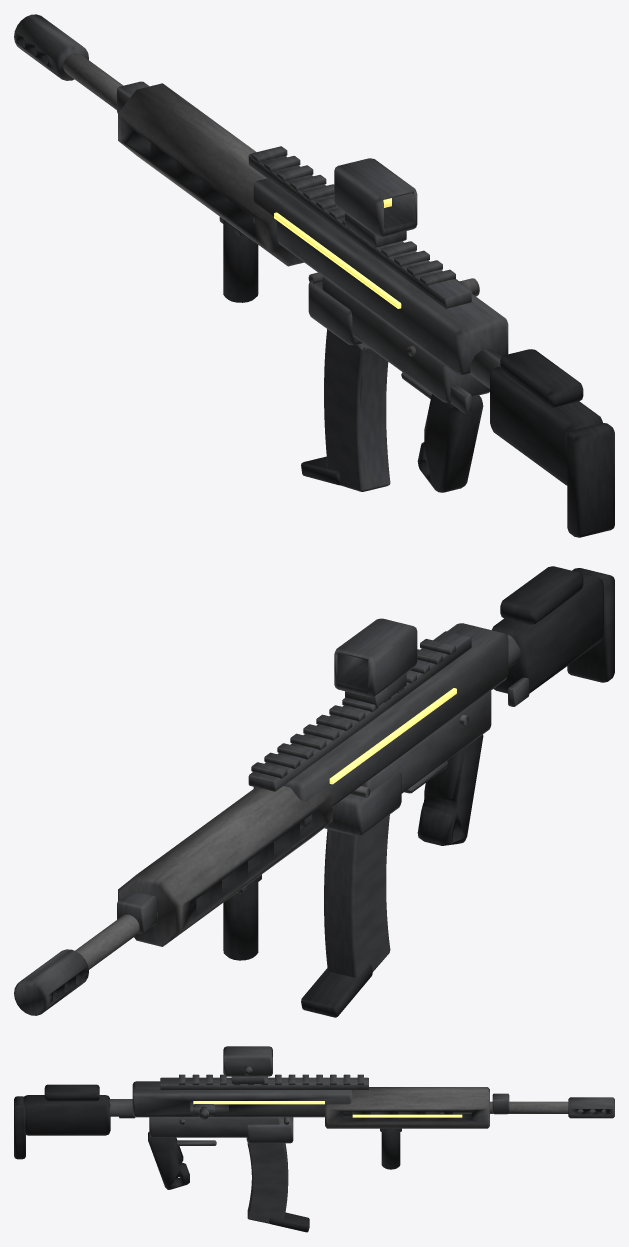
File: rifle.glb
The picture shows the model from 3 angles, top to bottom: view 1: azimuth 30°, elevation 25°; view 2: azimuth 150°, elevation 25°; view 3: azimuth 270°, elevation 25°; orthographic projection. The views are drawn at different scales.
Visible parts, largest first — view 1: RifleBody, RifleMag, RifleAccent; view 2: RifleBody, RifleMag, RifleAccent; view 3: RifleBody, RifleMag, RifleAccent, RifleBolt.
Part boxes in pixels (left/top/right/bottom): RifleBody: left=14, top=14, right=614, bottom=537; RifleMag: left=301, top=329, right=390, bottom=491; RifleAccent: left=274, top=198, right=401, bottom=308; RifleBody: left=14, top=566, right=614, bottom=1015; RifleMag: left=301, top=814, right=390, bottom=1017; RifleAccent: left=329, top=688, right=456, bottom=784; RifleBody: left=14, top=1046, right=614, bottom=1189; RifleMag: left=247, top=1143, right=309, bottom=1232; RifleAccent: left=193, top=1101, right=462, bottom=1117; RifleBolt: left=193, top=1104, right=214, bottom=1119.
Size of the model in its own units: 0.101 by 0.3572 by 1.09.
2 materials, 1 textured.
